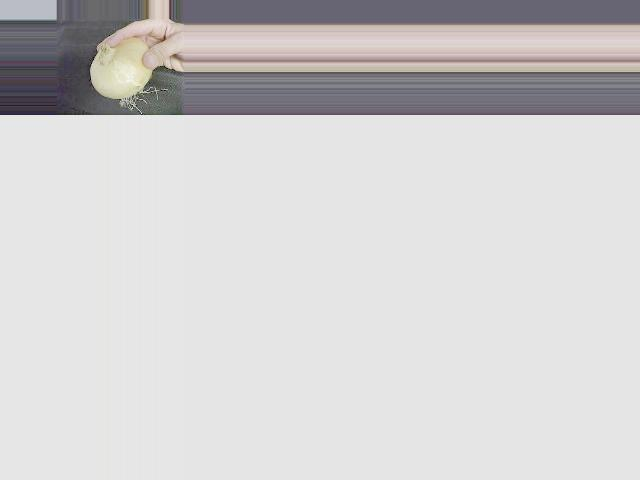onion: (91, 36, 151, 100)
